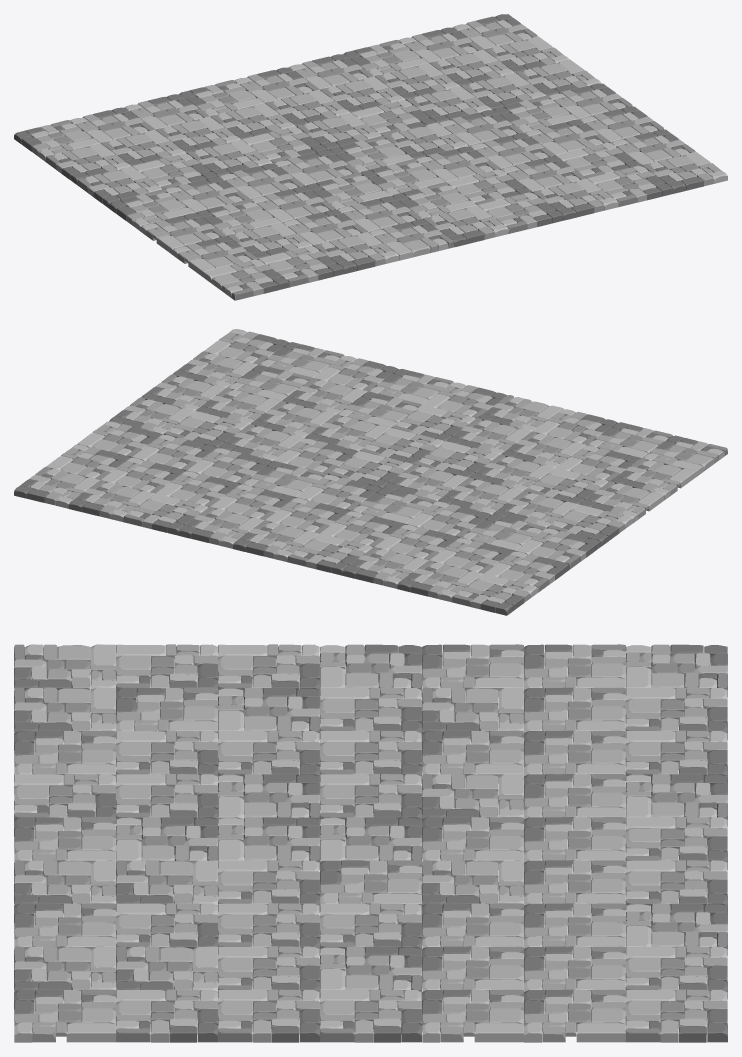
File: BaseGround.fbx
3 renders of one model, top to bottom at view 1: azimuth 30°, elevation 25°; view 2: azimuth 150°, elevation 25°; view 3: azimuth 270°, elevation 25°, orthographic. The views are drawn at different scales.
Visible parts, largest first — view 1: polySurface17 (×7), polySurface28 (×7), polySurface26 (×7), polySurface22 (×7), polySurface27 (×7), polySurface24 (×7), polySurface25 (×7), polySurface23 (×7), polySurface21 (×7); view 2: polySurface17 (×7), polySurface28 (×7), polySurface26 (×7), polySurface27 (×7), polySurface22 (×7), polySurface25 (×7), polySurface23 (×7), polySurface24 (×7), polySurface21 (×7); view 3: polySurface28 (×7), polySurface17 (×7), polySurface22 (×7), polySurface26 (×7), polySurface25 (×7), polySurface24 (×7), polySurface23 (×7), polySurface21 (×7), polySurface27 (×7).
Part boxes in pixels (left/top/right/bottom): polySurface17 (×7): left=14, top=36, right=727, bottom=277; polySurface28 (×7): left=45, top=14, right=695, bottom=300; polySurface26 (×7): left=156, top=40, right=585, bottom=273; polySurface22 (×7): left=124, top=63, right=618, bottom=246; polySurface27 (×7): left=101, top=27, right=640, bottom=287; polySurface24 (×7): left=234, top=67, right=508, bottom=247; polySurface25 (×7): left=210, top=54, right=531, bottom=260; polySurface23 (×7): left=179, top=76, right=563, bottom=233; polySurface21 (×7): left=70, top=49, right=673, bottom=259; polySurface17 (×7): left=46, top=329, right=696, bottom=615; polySurface28 (×7): left=14, top=351, right=727, bottom=592; polySurface26 (×7): left=123, top=378, right=617, bottom=560; polySurface27 (×7): left=68, top=365, right=672, bottom=573; polySurface22 (×7): left=155, top=356, right=586, bottom=588; polySurface25 (×7): left=178, top=392, right=563, bottom=548; polySurface23 (×7): left=210, top=369, right=531, bottom=575; polySurface24 (×7): left=233, top=382, right=507, bottom=562; polySurface21 (×7): left=101, top=342, right=639, bottom=602; polySurface28 (×7): left=14, top=644, right=727, bottom=1042; polySurface17 (×7): left=14, top=644, right=727, bottom=1042; polySurface22 (×7): left=14, top=730, right=727, bottom=955; polySurface26 (×7): left=14, top=730, right=727, bottom=955; polySurface25 (×7): left=14, top=774, right=727, bottom=912; polySurface24 (×7): left=14, top=817, right=727, bottom=869; polySurface23 (×7): left=14, top=774, right=727, bottom=912; polySurface21 (×7): left=14, top=687, right=727, bottom=998; polySurface27 (×7): left=14, top=687, right=727, bottom=998.
Bounding box in the file's own units: 4925 × 58.71 × 3826.
